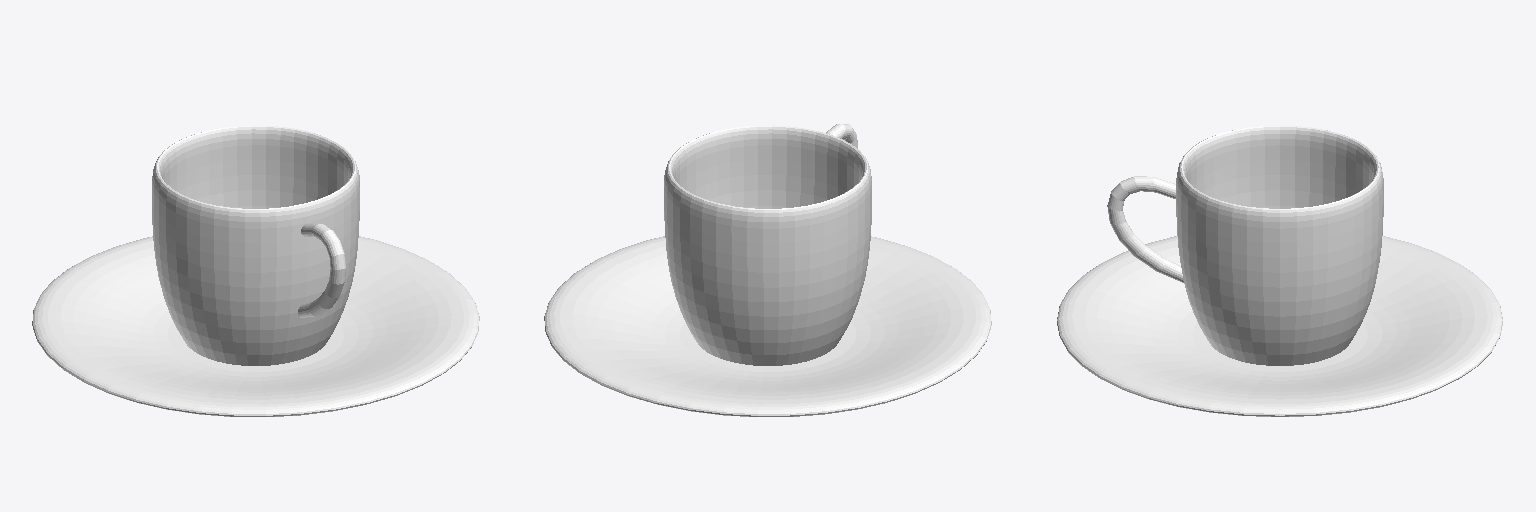
Rendered from teacup_smooth.obj.
3 views of the same model, side by side, from view 1: azimuth 30°, elevation 25°; view 2: azimuth 150°, elevation 25°; view 3: azimuth 270°, elevation 25° (orthographic).
Visible parts, largest first — view 1: teacup; view 2: teacup; view 3: teacup.
Part boxes in pixels (x1,y1,x2,y2): teacup: (32, 125, 479, 416); teacup: (544, 124, 991, 416); teacup: (1057, 125, 1502, 416).
Size of the model in its own units: 0.9406 by 0.4129 by 0.9406.